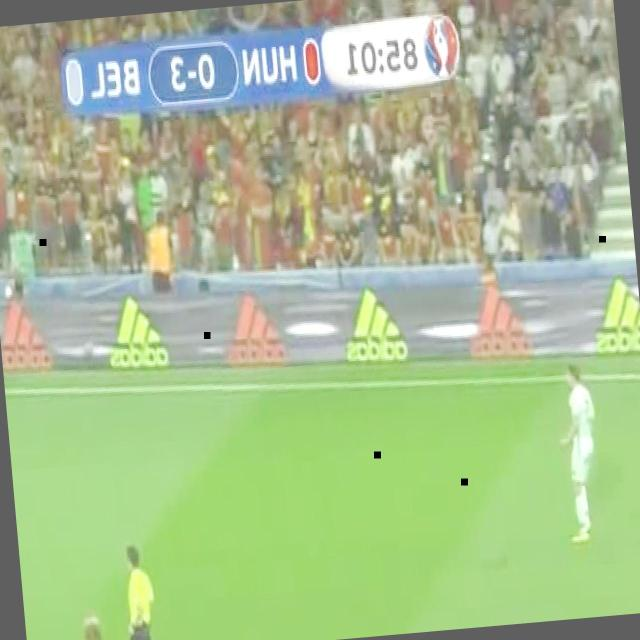player-white: (553, 365, 605, 545), (120, 541, 164, 640), (44, 614, 110, 640)
